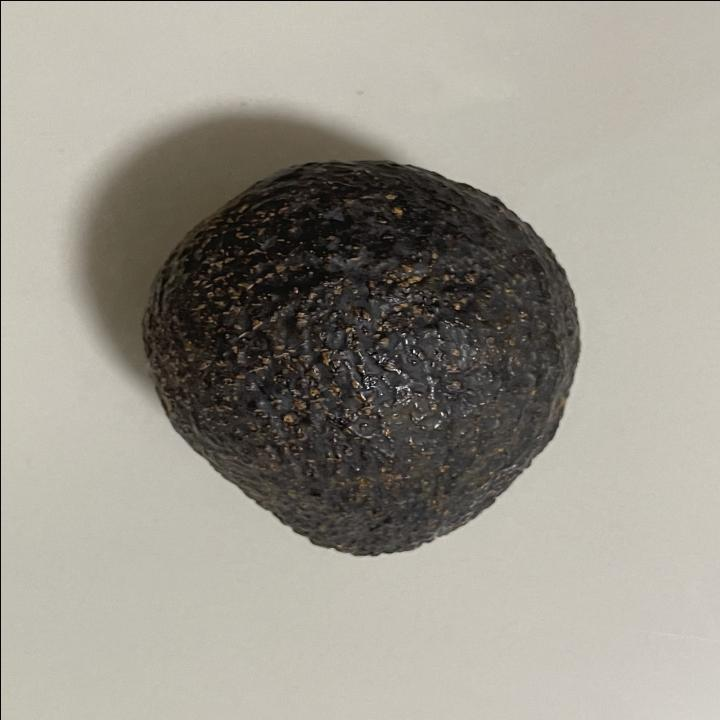Level2: (131, 153, 590, 566)
